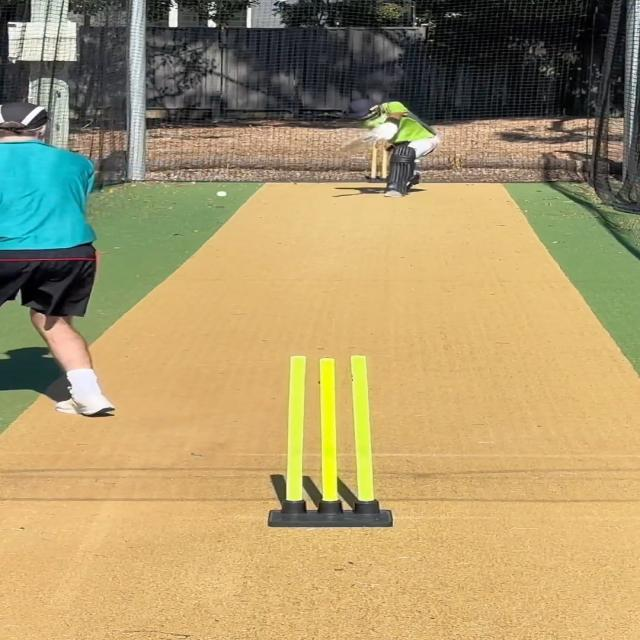ball: (214, 190, 228, 198)
stump: (265, 353, 393, 528)
